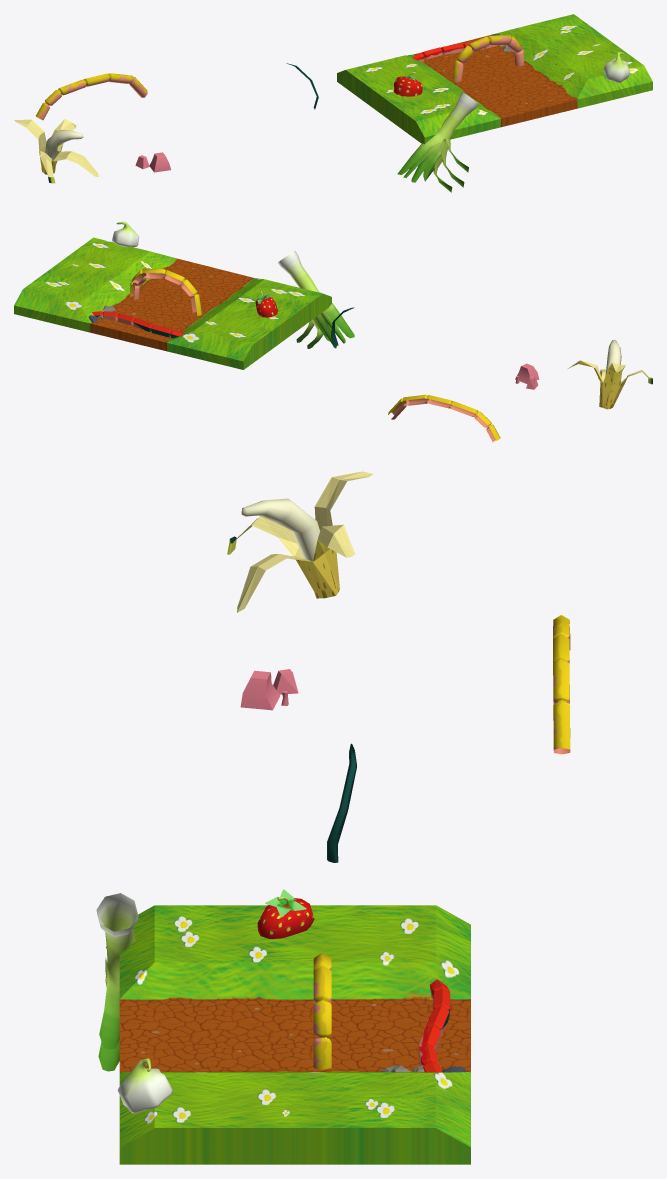
Rendered from D_Sol_01.FBX.
3 renders of one model, top to bottom at view 1: azimuth 30°, elevation 25°; view 2: azimuth 150°, elevation 25°; view 3: azimuth 270°, elevation 25°, orthographic. The views are drawn at different scales.
Visible parts, largest first — view 1: BlockA, bon_sol, Object003, banane, saucisse_arche, saucisse_porte, Plane013, saucisse_obstacle, Lardon1; view 2: BlockA, bon_sol, Object003, banane, saucisse_arche, saucisse_porte, Plane013, saucisse_obstacle, Lardon1; view 3: BlockA, bon_sol, banane, Plane013, Object003, saucisse_arche, saucisse_porte, saucisse_obstacle, Lardon1, herbe.
Part boxes in pixels (<box>): BlockA: <box>337,14,652,144</box>; bon_sol: <box>337,29,652,143</box>; Object003: <box>397,92,478,192</box>; banane: <box>14,119,98,183</box>; saucisse_arche: <box>36,73,147,120</box>; saucisse_porte: <box>452,35,524,81</box>; Plane013: <box>393,52,630,96</box>; saucisse_obstacle: <box>412,42,496,61</box>; Lardon1: <box>135,152,170,172</box>; BlockA: <box>14,237,331,369</box>; bon_sol: <box>14,247,331,365</box>; Object003: <box>278,251,354,348</box>; banane: <box>568,339,652,409</box>; saucisse_arche: <box>388,394,500,441</box>; saucisse_porte: <box>130,268,201,315</box>; Plane013: <box>112,221,278,317</box>; saucisse_obstacle: <box>92,311,184,338</box>; Lardon1: <box>515,363,539,389</box>; BlockA: <box>119,905,470,1164</box>; bon_sol: <box>119,906,470,1164</box>; banane: <box>227,471,372,612</box>; Plane013: <box>117,889,314,1113</box>; Object003: <box>96,893,138,1071</box>; saucisse_arche: <box>553,615,570,754</box>; saucisse_porte: <box>313,952,331,1069</box>; saucisse_obstacle: <box>418,979,450,1072</box>; Lardon1: <box>240,669,298,710</box>; herbe: <box>327,743,356,862</box>.
Bounding box in the file's own units: 2275 × 441 × 809.
